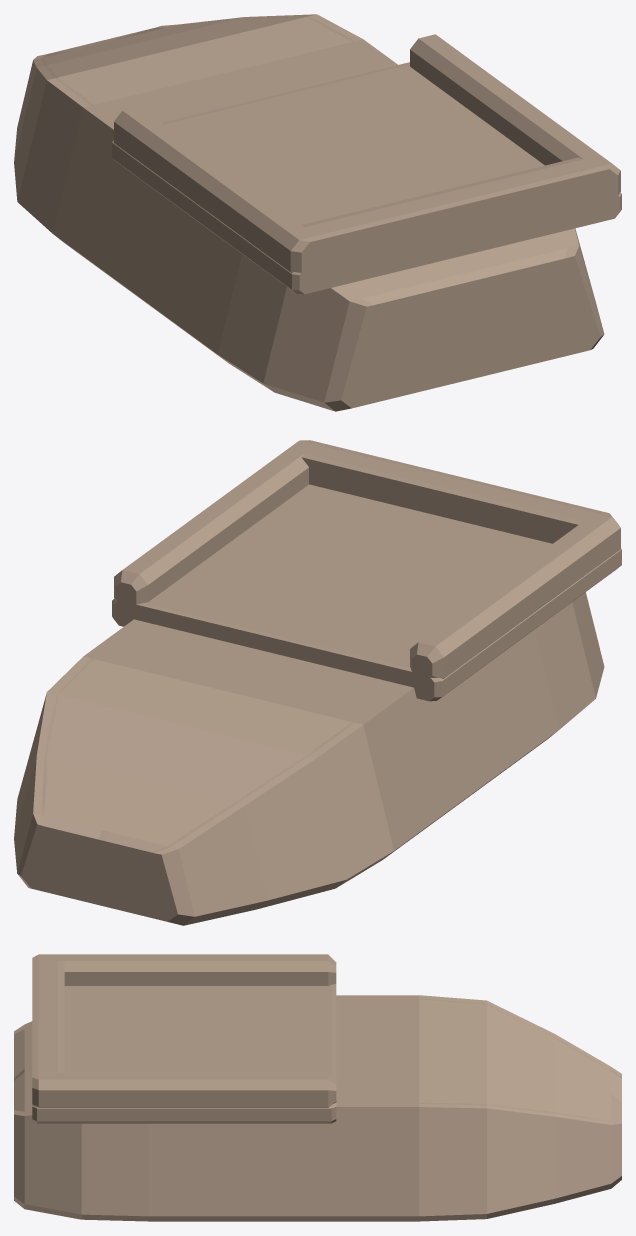
File: orrin_transport_a.glb
The picture shows the model from 3 angles, top to bottom: view 1: azimuth 30°, elevation 25°; view 2: azimuth 150°, elevation 25°; view 3: azimuth 270°, elevation 25°; orthographic projection. The views are drawn at different scales.
Parts seen in each view (by area): view 1: orrin_transport_a; view 2: orrin_transport_a; view 3: orrin_transport_a.
Boxes of the visible parts, box(x1,y1,x2,y2) form: orrin_transport_a: box(14, 14, 621, 411); orrin_transport_a: box(14, 440, 621, 925); orrin_transport_a: box(14, 954, 621, 1221).
Size of the model in its own units: 4.3 by 2.07 by 8.1.
